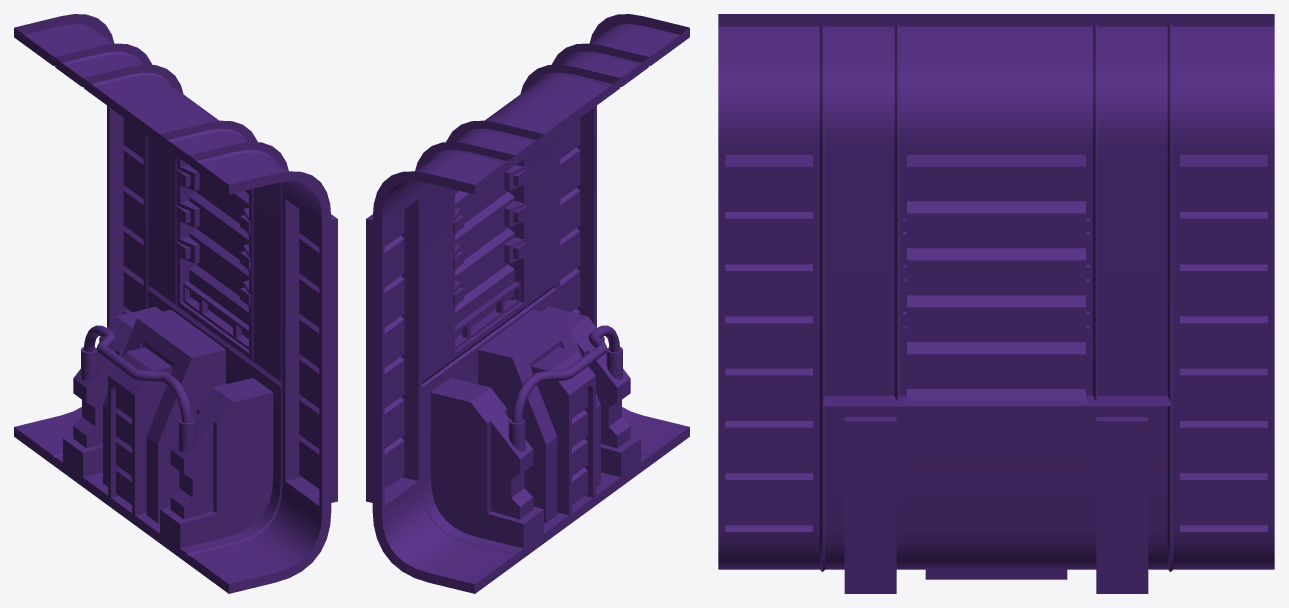
Rendered from Wall_C_4x4m.FBX.
3 views of the same model, side by side, from view 1: azimuth 30°, elevation 25°; view 2: azimuth 150°, elevation 25°; view 3: azimuth 270°, elevation 25° (orthographic). The views are drawn at different scales.
Visible parts, largest first — view 1: Wall_C_4x4m; view 2: Wall_C_4x4m; view 3: Wall_C_4x4m.
Part boxes in pixels (left/top/right/bottom): Wall_C_4x4m: left=14, top=14, right=337, bottom=593; Wall_C_4x4m: left=366, top=14, right=689, bottom=593; Wall_C_4x4m: left=718, top=14, right=1274, bottom=593.
Bounding box in the file's own units: 128 × 420 × 400.
